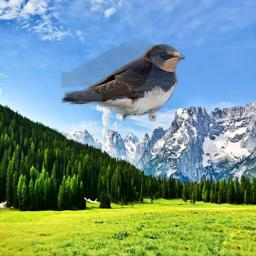Swallow: (61, 42, 185, 121)
